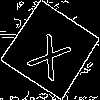X: (25, 24, 79, 81)
